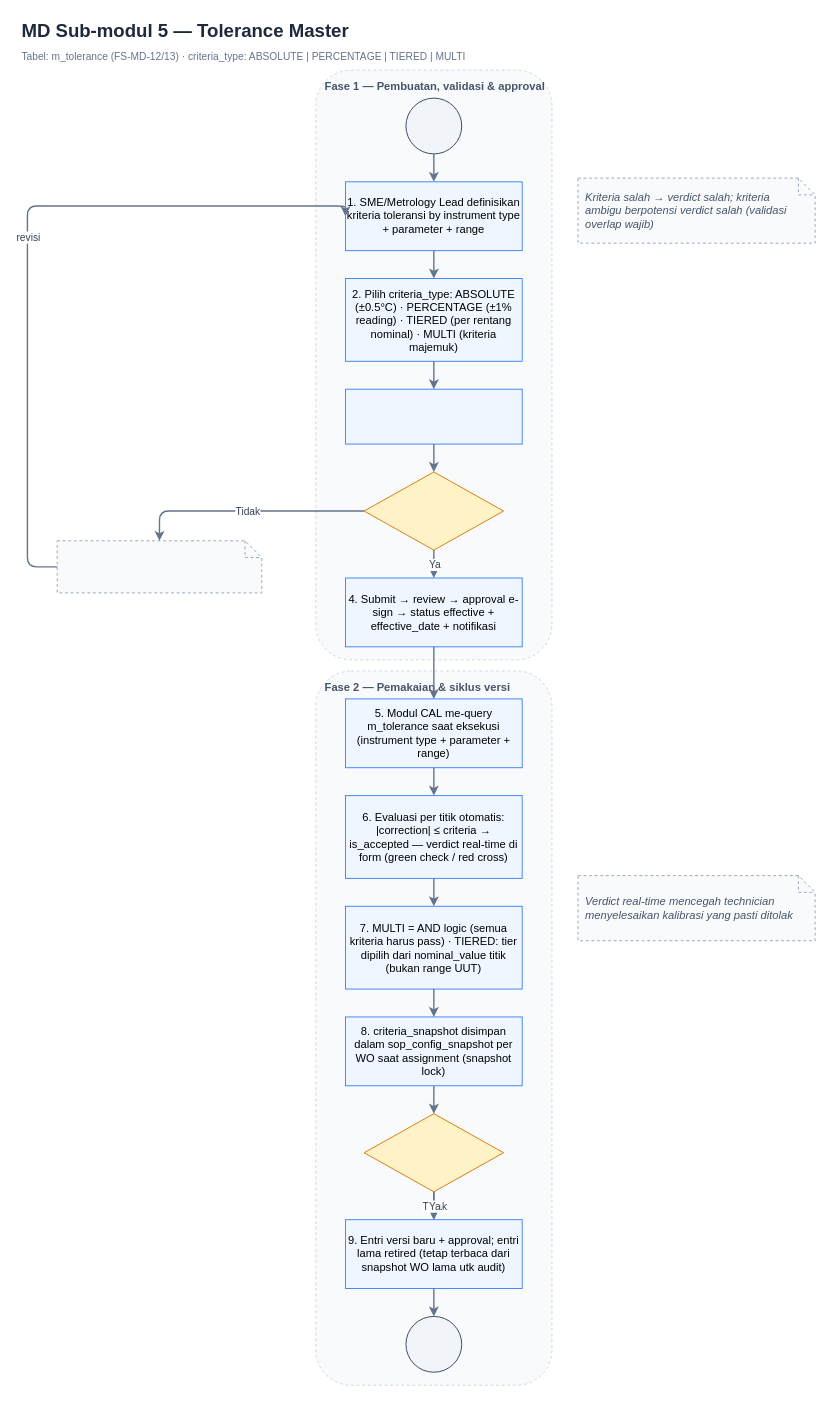
Some shapes in this 831 by 1402 pixel diagram are drawn without their labels. The shapes that lost their labels are listed below. From the top down, each one's centre as x and y in pixels, then its label:
At [433,125]: "Mulai".
At [433,416]: "3. Isi criteria JSON (tier ranges / daftar multi-kriteria + operator)".
At [433,510]: "Range & struktur valid (tak tumpang tindih)?".
At [159,566]: "Kembali draft".
At [433,1152]: "Revisi kriteria?".
At [433,1343]: "Selesai".
